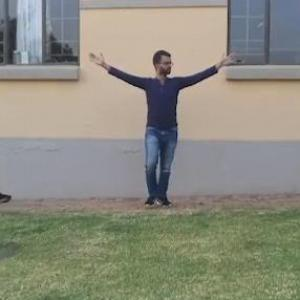takeoff: (92, 45, 237, 200)
